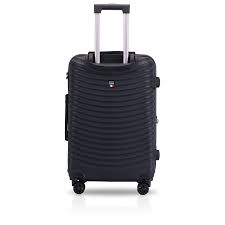suitcase: (61, 4, 163, 197)
